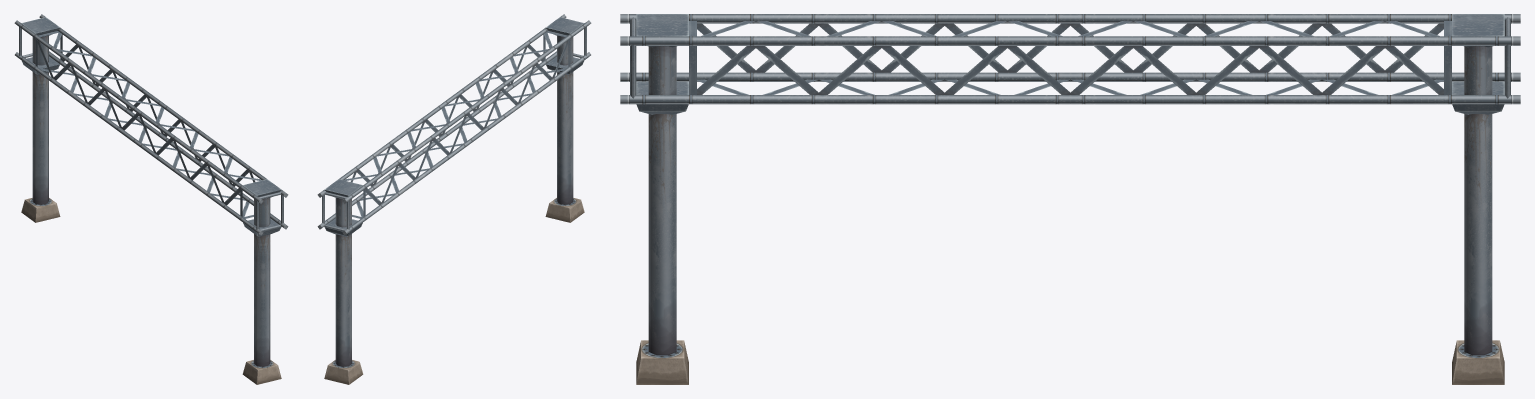
The model's file is trafficSign_HWay_overhead02.fbx.
3 views of the same model, side by side, from view 1: azimuth 30°, elevation 25°; view 2: azimuth 150°, elevation 25°; view 3: azimuth 270°, elevation 25° (orthographic). The views are drawn at different scales.
Parts seen in each view (by area): view 1: trafficSign_HWay_overhead02; view 2: trafficSign_HWay_overhead02; view 3: trafficSign_HWay_overhead02.
Part boxes in pixels (x1=…): trafficSign_HWay_overhead02: x1=14, y1=14, x2=288, y2=384; trafficSign_HWay_overhead02: x1=317, y1=14, x2=591, y2=384; trafficSign_HWay_overhead02: x1=620, y1=14, x2=1520, y2=384.
Bounding box in the file's own units: 118 × 714 × 1672.
